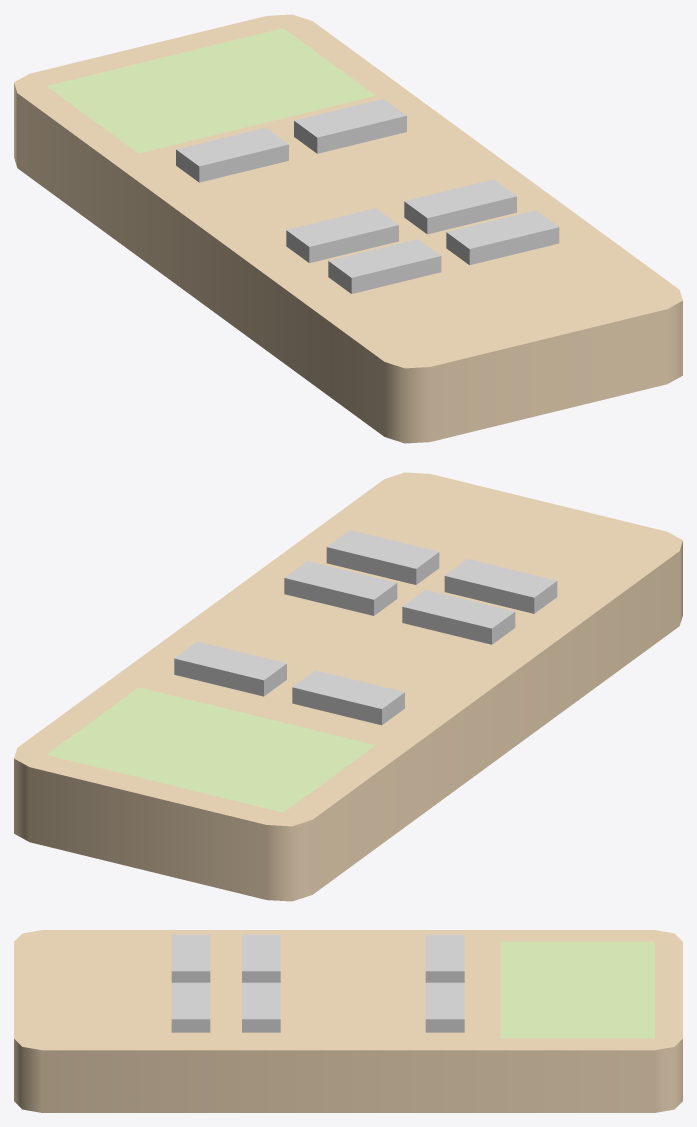
File: Controller_1.fbx
3 renders of one model, top to bottom at view 1: azimuth 30°, elevation 25°; view 2: azimuth 150°, elevation 25°; view 3: azimuth 270°, elevation 25°, orthographic. The views are drawn at different scales.
Visible parts, largest first — view 1: Controller_1; view 2: Controller_1; view 3: Controller_1.
Boxes of the visible parts, <box> form: Controller_1: <box>14,14,682,443</box>; Controller_1: <box>14,472,682,901</box>; Controller_1: <box>14,930,682,1112</box>.
Size of the model in its own units: 8.45 by 2.5 by 19.86.
